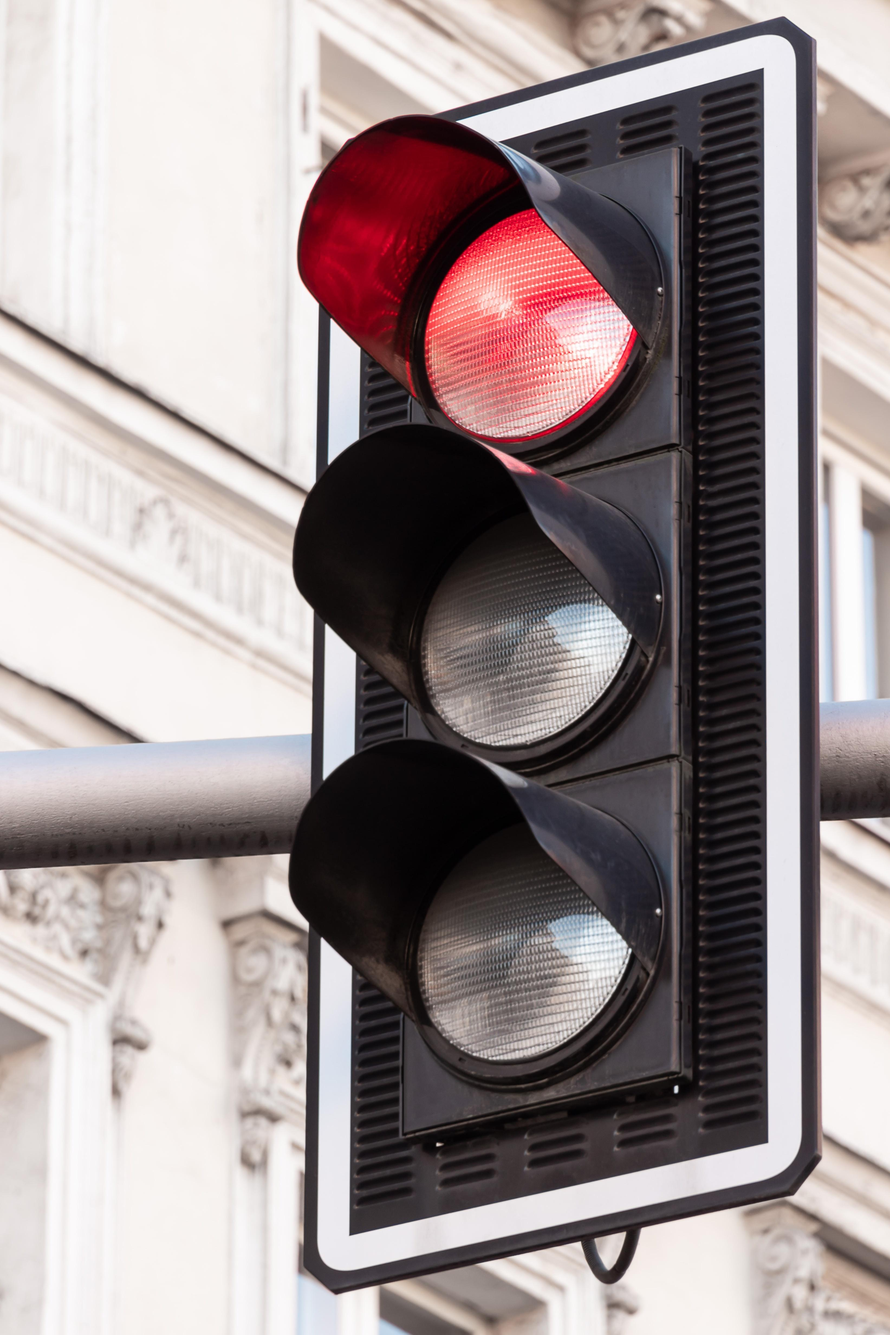red: (290, 68, 814, 1265)
